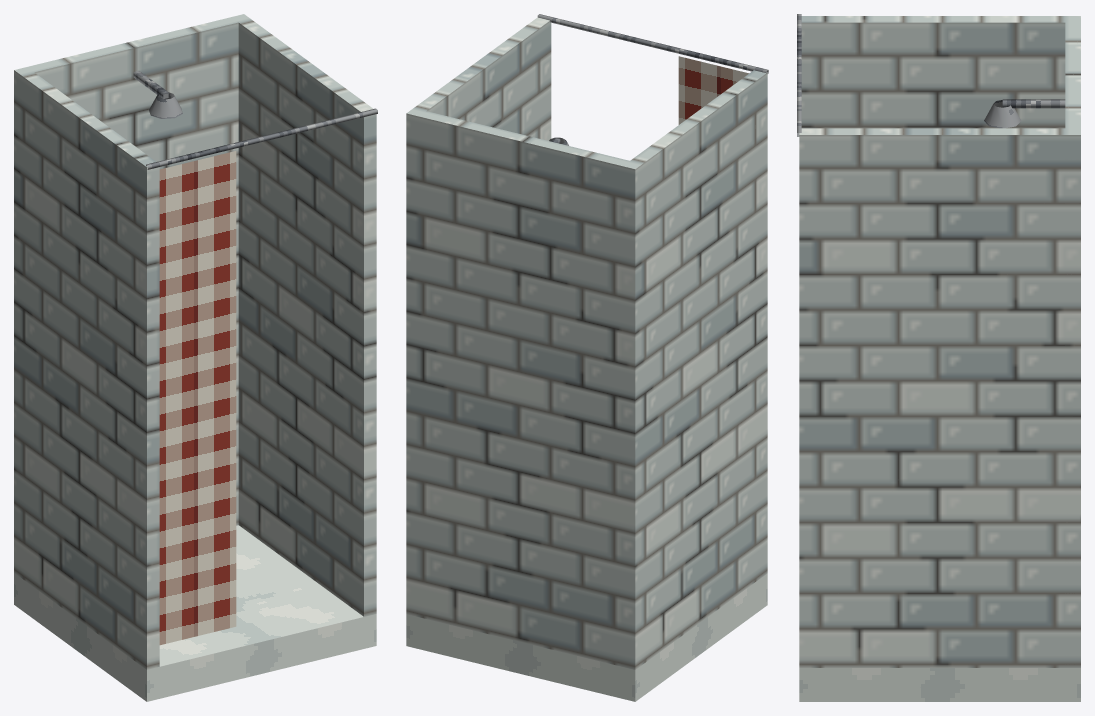
The model's file is RES_ShowerStall.obj.
The picture shows the model from 3 angles, left to right: view 1: azimuth 30°, elevation 25°; view 2: azimuth 150°, elevation 25°; view 3: azimuth 270°, elevation 25°; orthographic projection. The views are drawn at different scales.
Visible parts, largest first — view 1: RES_ShowerStall_Mesh_M_Int_TilesBathroom, RES_ShowerStall_Mesh_M_Res_Gingham, RES_ShowerStall_Mesh_M_Res_Porcelain, RES_ShowerStall_Mesh_M_Furn_MetalBrushed; view 2: RES_ShowerStall_Mesh_M_Int_TilesBathroom, RES_ShowerStall_Mesh_M_Res_Porcelain, RES_ShowerStall_Mesh_M_Res_Gingham, RES_ShowerStall_Mesh_M_Furn_MetalBrushed; view 3: RES_ShowerStall_Mesh_M_Int_TilesBathroom, RES_ShowerStall_Mesh_M_Res_Porcelain, RES_ShowerStall_Mesh_M_Furn_MetalBrushed.
Part boxes in pixels (x1,y1,x2,y2): RES_ShowerStall_Mesh_M_Int_TilesBathroom: (14, 14, 376, 669); RES_ShowerStall_Mesh_M_Res_Gingham: (159, 151, 236, 645); RES_ShowerStall_Mesh_M_Res_Porcelain: (14, 525, 376, 701); RES_ShowerStall_Mesh_M_Furn_MetalBrushed: (133, 71, 377, 169); RES_ShowerStall_Mesh_M_Int_TilesBathroom: (406, 17, 767, 669); RES_ShowerStall_Mesh_M_Res_Porcelain: (406, 573, 767, 701); RES_ShowerStall_Mesh_M_Res_Gingham: (678, 56, 748, 124); RES_ShowerStall_Mesh_M_Furn_MetalBrushed: (537, 14, 768, 145); RES_ShowerStall_Mesh_M_Int_TilesBathroom: (799, 16, 1080, 667); RES_ShowerStall_Mesh_M_Res_Porcelain: (799, 668, 1080, 701); RES_ShowerStall_Mesh_M_Furn_MetalBrushed: (797, 14, 1065, 136).
Size of the model in its own units: 0.9 by 2.01 by 0.9071.
Materials: 4 (4 with a texture image).
